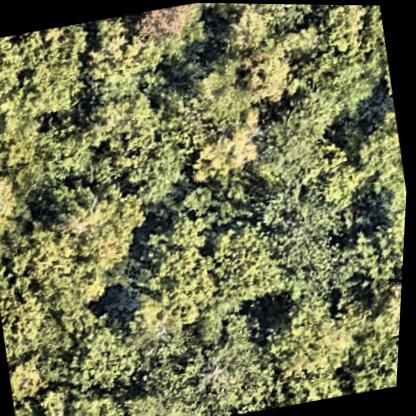tree-top: (128, 304, 278, 416), (0, 216, 111, 352), (255, 282, 378, 395), (118, 212, 230, 334), (72, 81, 177, 192), (188, 210, 294, 318), (45, 176, 152, 282), (0, 20, 97, 130), (252, 177, 345, 277), (0, 106, 82, 211), (249, 95, 332, 193), (339, 99, 412, 210), (307, 4, 393, 86), (68, 312, 149, 392), (166, 70, 251, 145), (233, 35, 303, 109), (191, 118, 265, 184), (344, 308, 404, 389), (120, 1, 208, 55), (348, 211, 408, 273), (40, 375, 127, 416), (0, 133, 32, 240), (8, 350, 57, 416), (361, 265, 405, 336), (17, 396, 55, 416)
